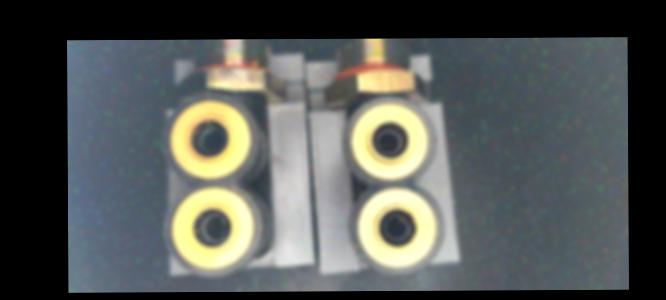off-centered: (199, 209, 231, 247), (382, 209, 414, 246)
